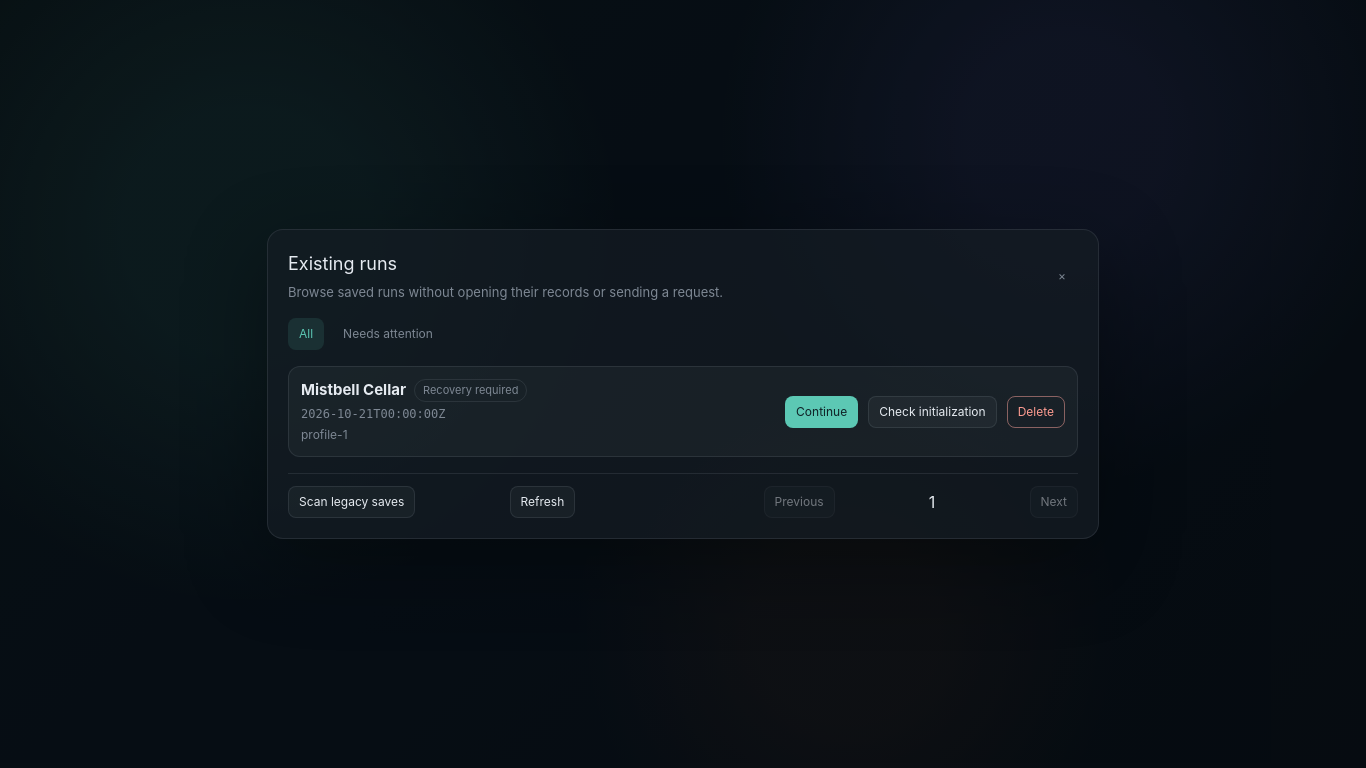
Test: can refresh a claimed initialization after it moves into an uncertain state
Click the button "Check initialization".
click(932, 412)  # box [868,396,997,428]
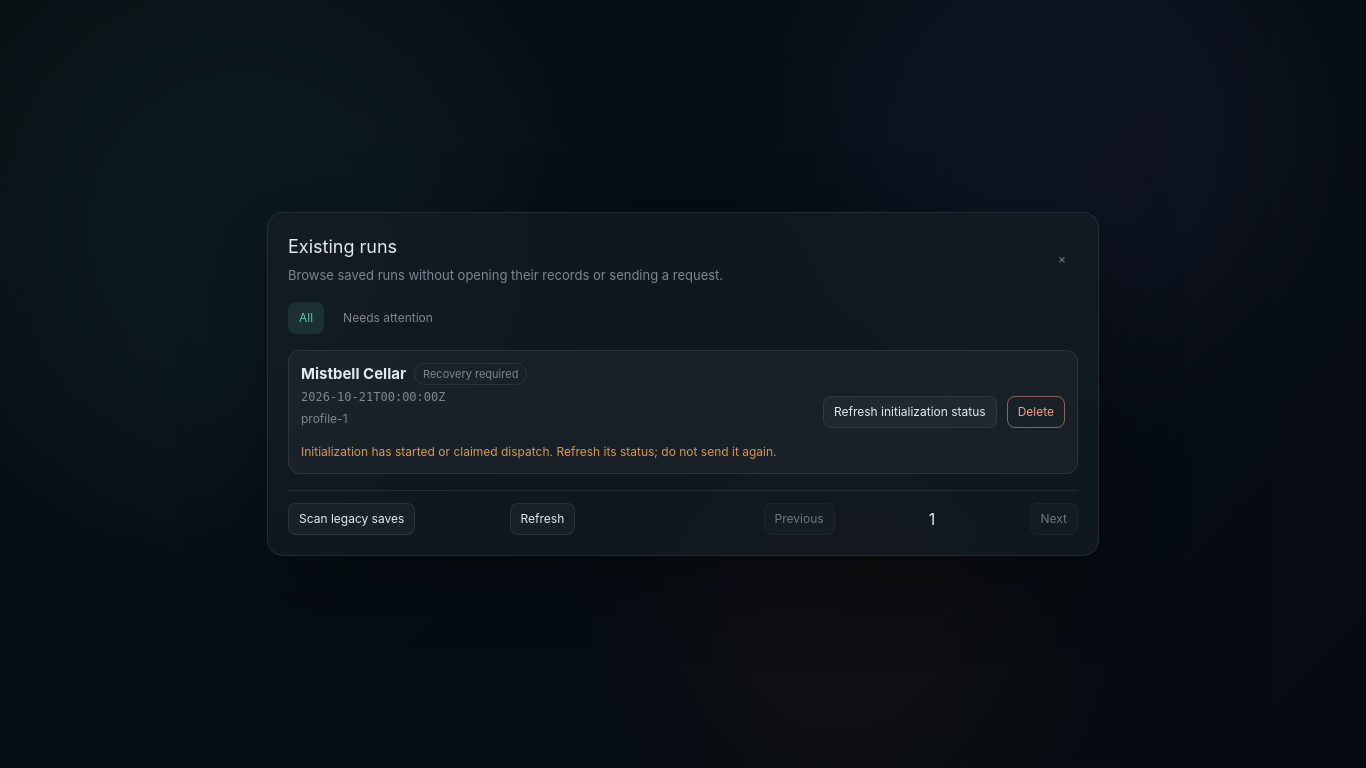
Expected: the text "do not send it again" is shown, [301,444,776,459]
Click the button "Refresh initialization status".
click(910, 412)  # box [823,396,997,428]
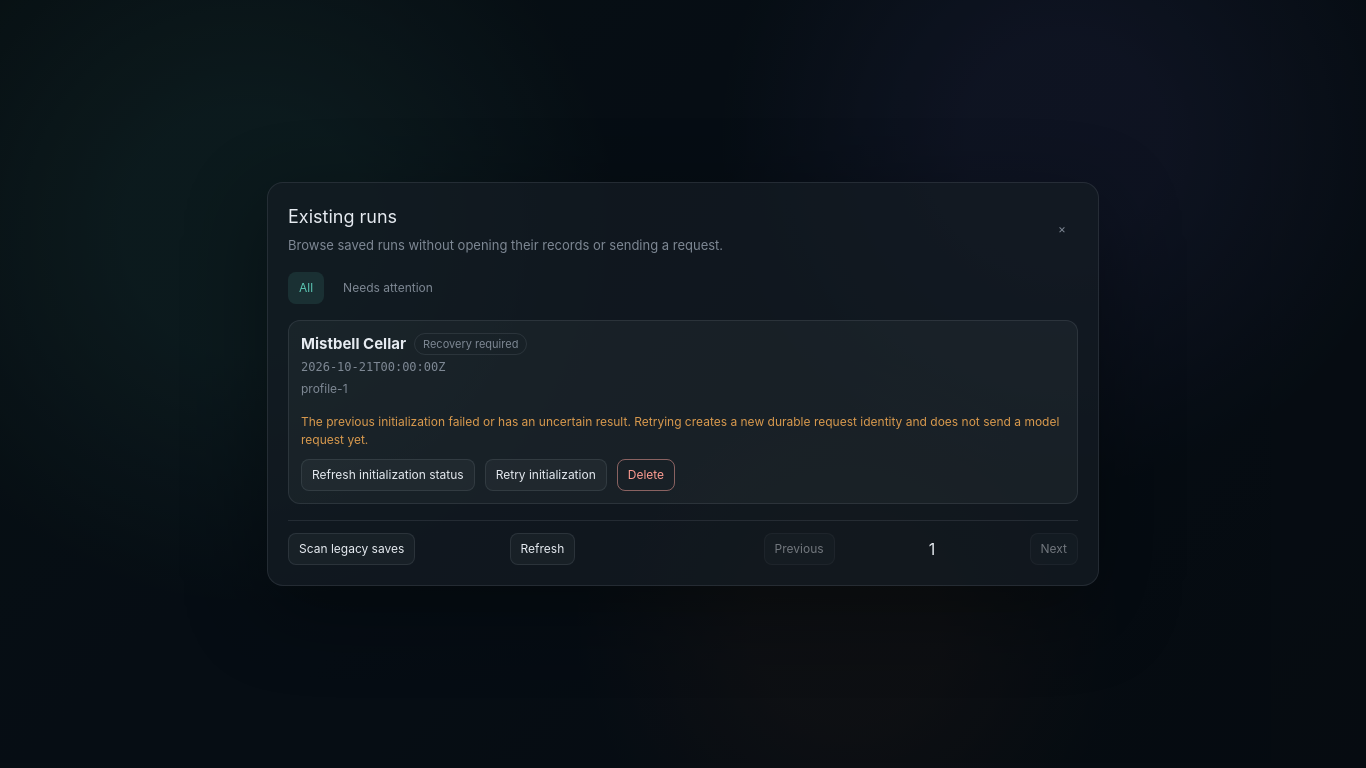
Expected: the text "Retry initialization" is shown, [485,459,607,491]
